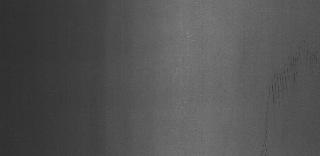water spot: (258, 40, 316, 156)
